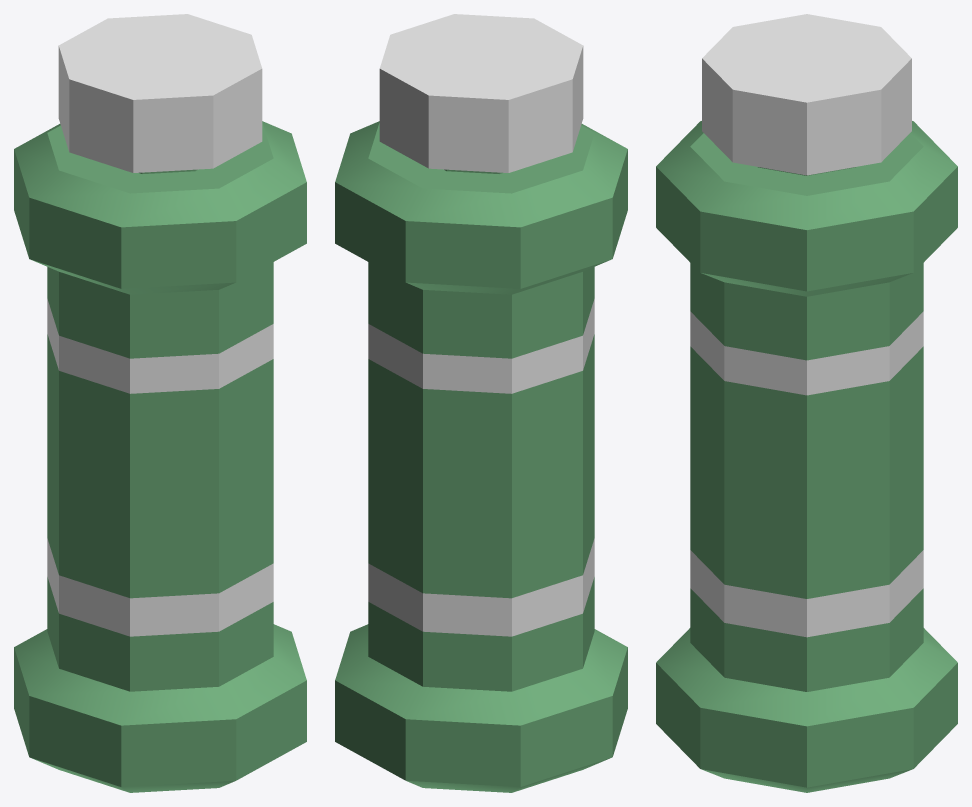
File: Grenade.fbx
The picture shows the model from 3 angles, left to right: view 1: azimuth 30°, elevation 25°; view 2: azimuth 150°, elevation 25°; view 3: azimuth 270°, elevation 25°; orthographic projection.
Visible parts, largest first — view 1: pCylinder1, pCylinder1_1; view 2: pCylinder1, pCylinder1_1; view 3: pCylinder1, pCylinder1_1.
Boxes of the visible parts, box(x1,y1,x2,y2) form: pCylinder1: box(14, 121, 306, 792); pCylinder1_1: box(58, 14, 262, 172); pCylinder1: box(335, 121, 627, 792); pCylinder1_1: box(379, 14, 583, 172); pCylinder1: box(656, 121, 957, 792); pCylinder1_1: box(702, 14, 911, 175).
Size of the model in its own units: 13.84 by 34.67 by 13.84.
